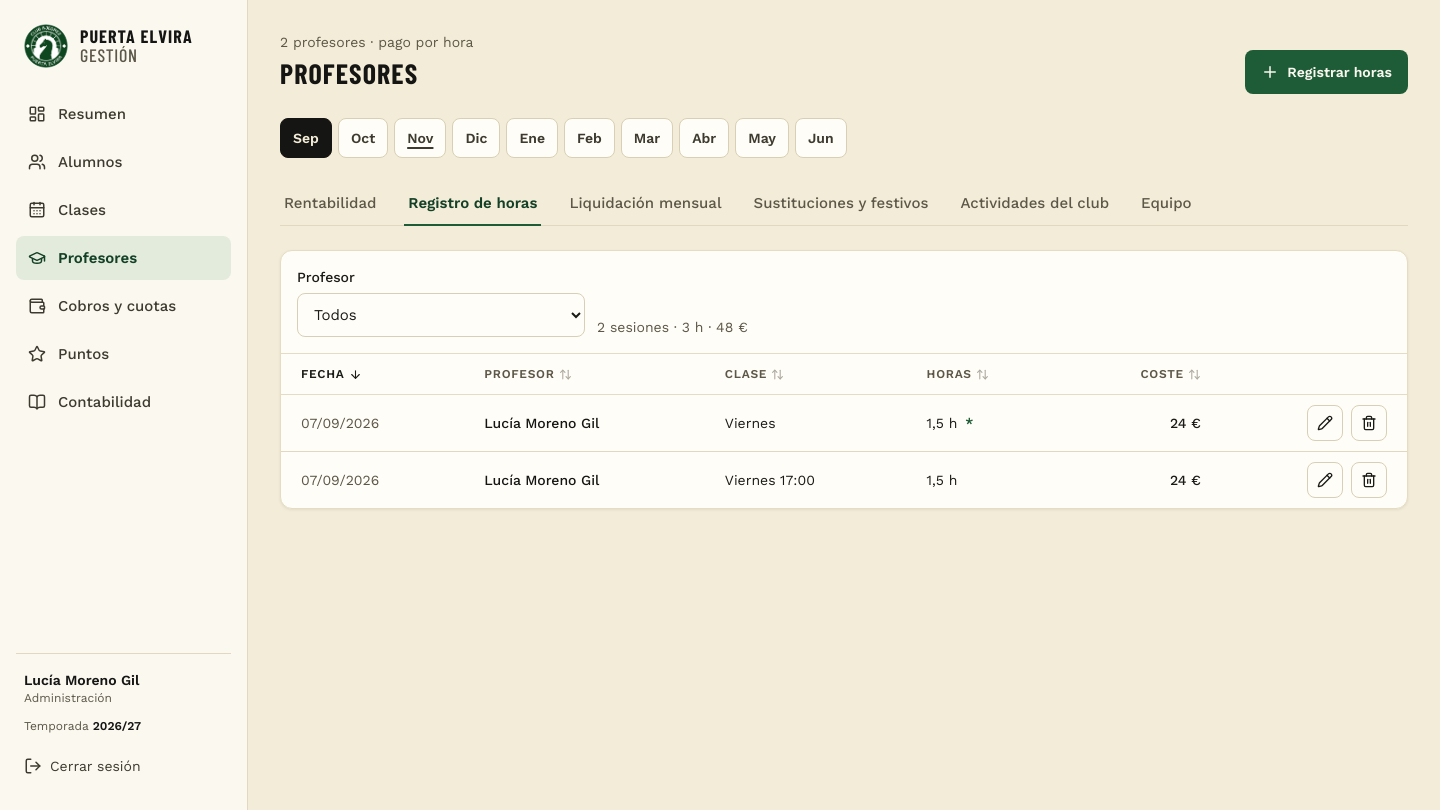
Test: Profesorado › counts once the hours that overlap, explaining it with an asterisk
Expected: the row "07/09/2026 Lucía Moreno Gil Viernes 1,5 h * 24 €" is shown, [281,395,1407,452]
Click the button named "Por qué cuenta 1,5 h": (970, 423) [961,413,978,433]
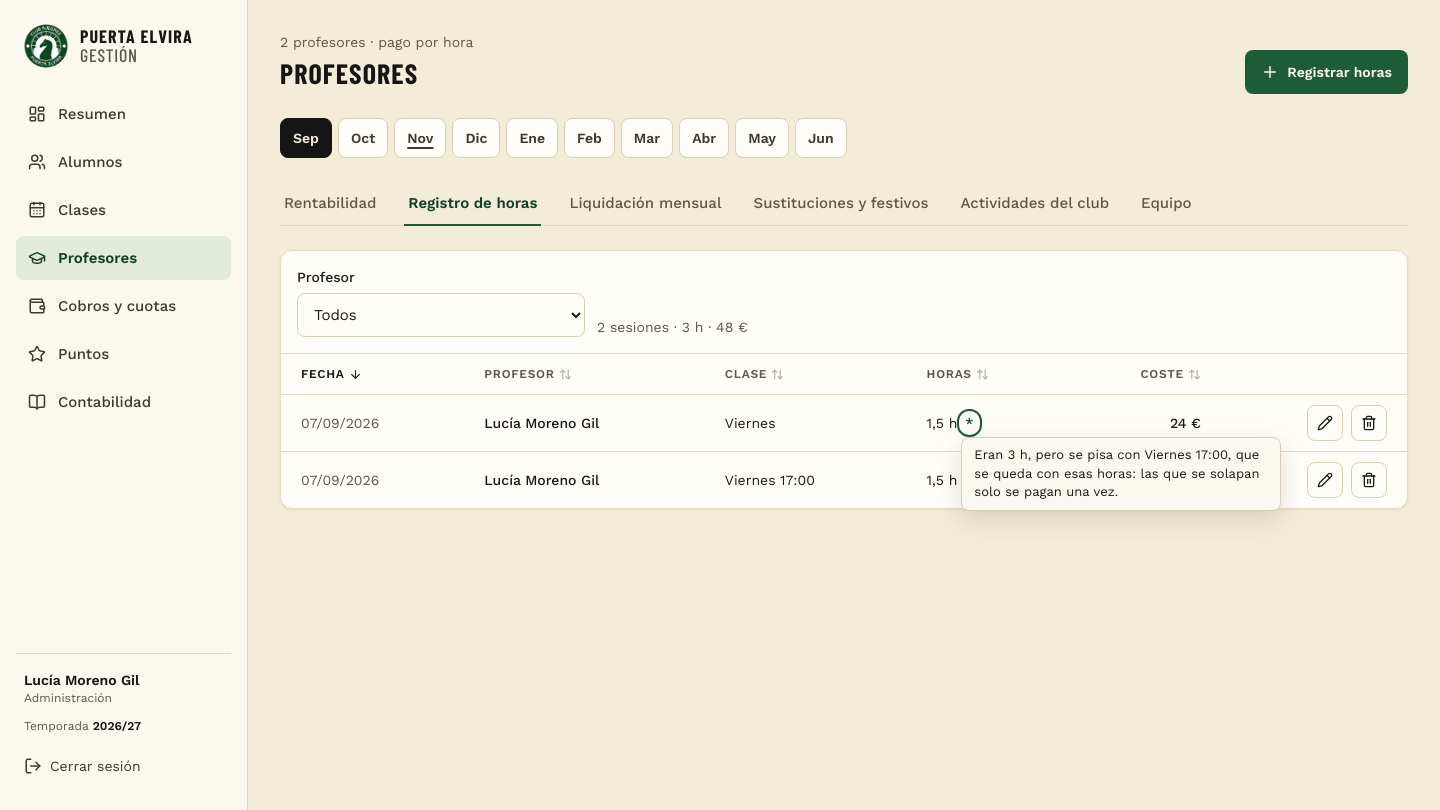
Expected: the text "2 sesiones · 3 h · 48 €" is shown, [597,319,748,335]
Now the dialog named "Por qué cuenta 1,5 h" shows "Eran 3 h, pero se pisa con Viernes 17:00", box [961,437,1281,511]
